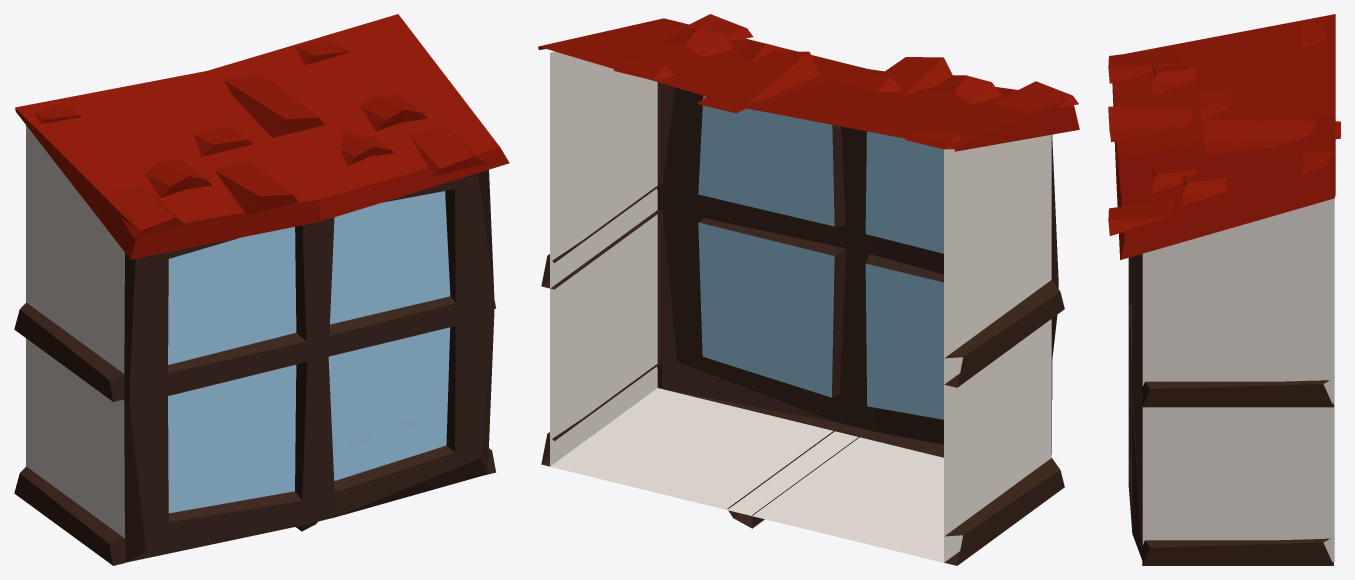
The model's file is SM_L_R_Home_Pop_Up_Quare_window.fbx.
3 renders of one model, left to right at view 1: azimuth 30°, elevation 25°; view 2: azimuth 150°, elevation 25°; view 3: azimuth 270°, elevation 25°, orthographic. The views are drawn at different scales.
Parts seen in each view (by area): view 1: SM_L_R_Home_Pop_Up_Square_Window; view 2: SM_L_R_Home_Pop_Up_Square_Window; view 3: SM_L_R_Home_Pop_Up_Square_Window.
Boxes of the visible parts, x1,y1,x2,y2 form: SM_L_R_Home_Pop_Up_Square_Window: [14, 14, 509, 565]; SM_L_R_Home_Pop_Up_Square_Window: [538, 14, 1079, 565]; SM_L_R_Home_Pop_Up_Square_Window: [1108, 14, 1340, 565].
Bounding box in the file's own units: 1.03 × 1.02 × 0.5589.
